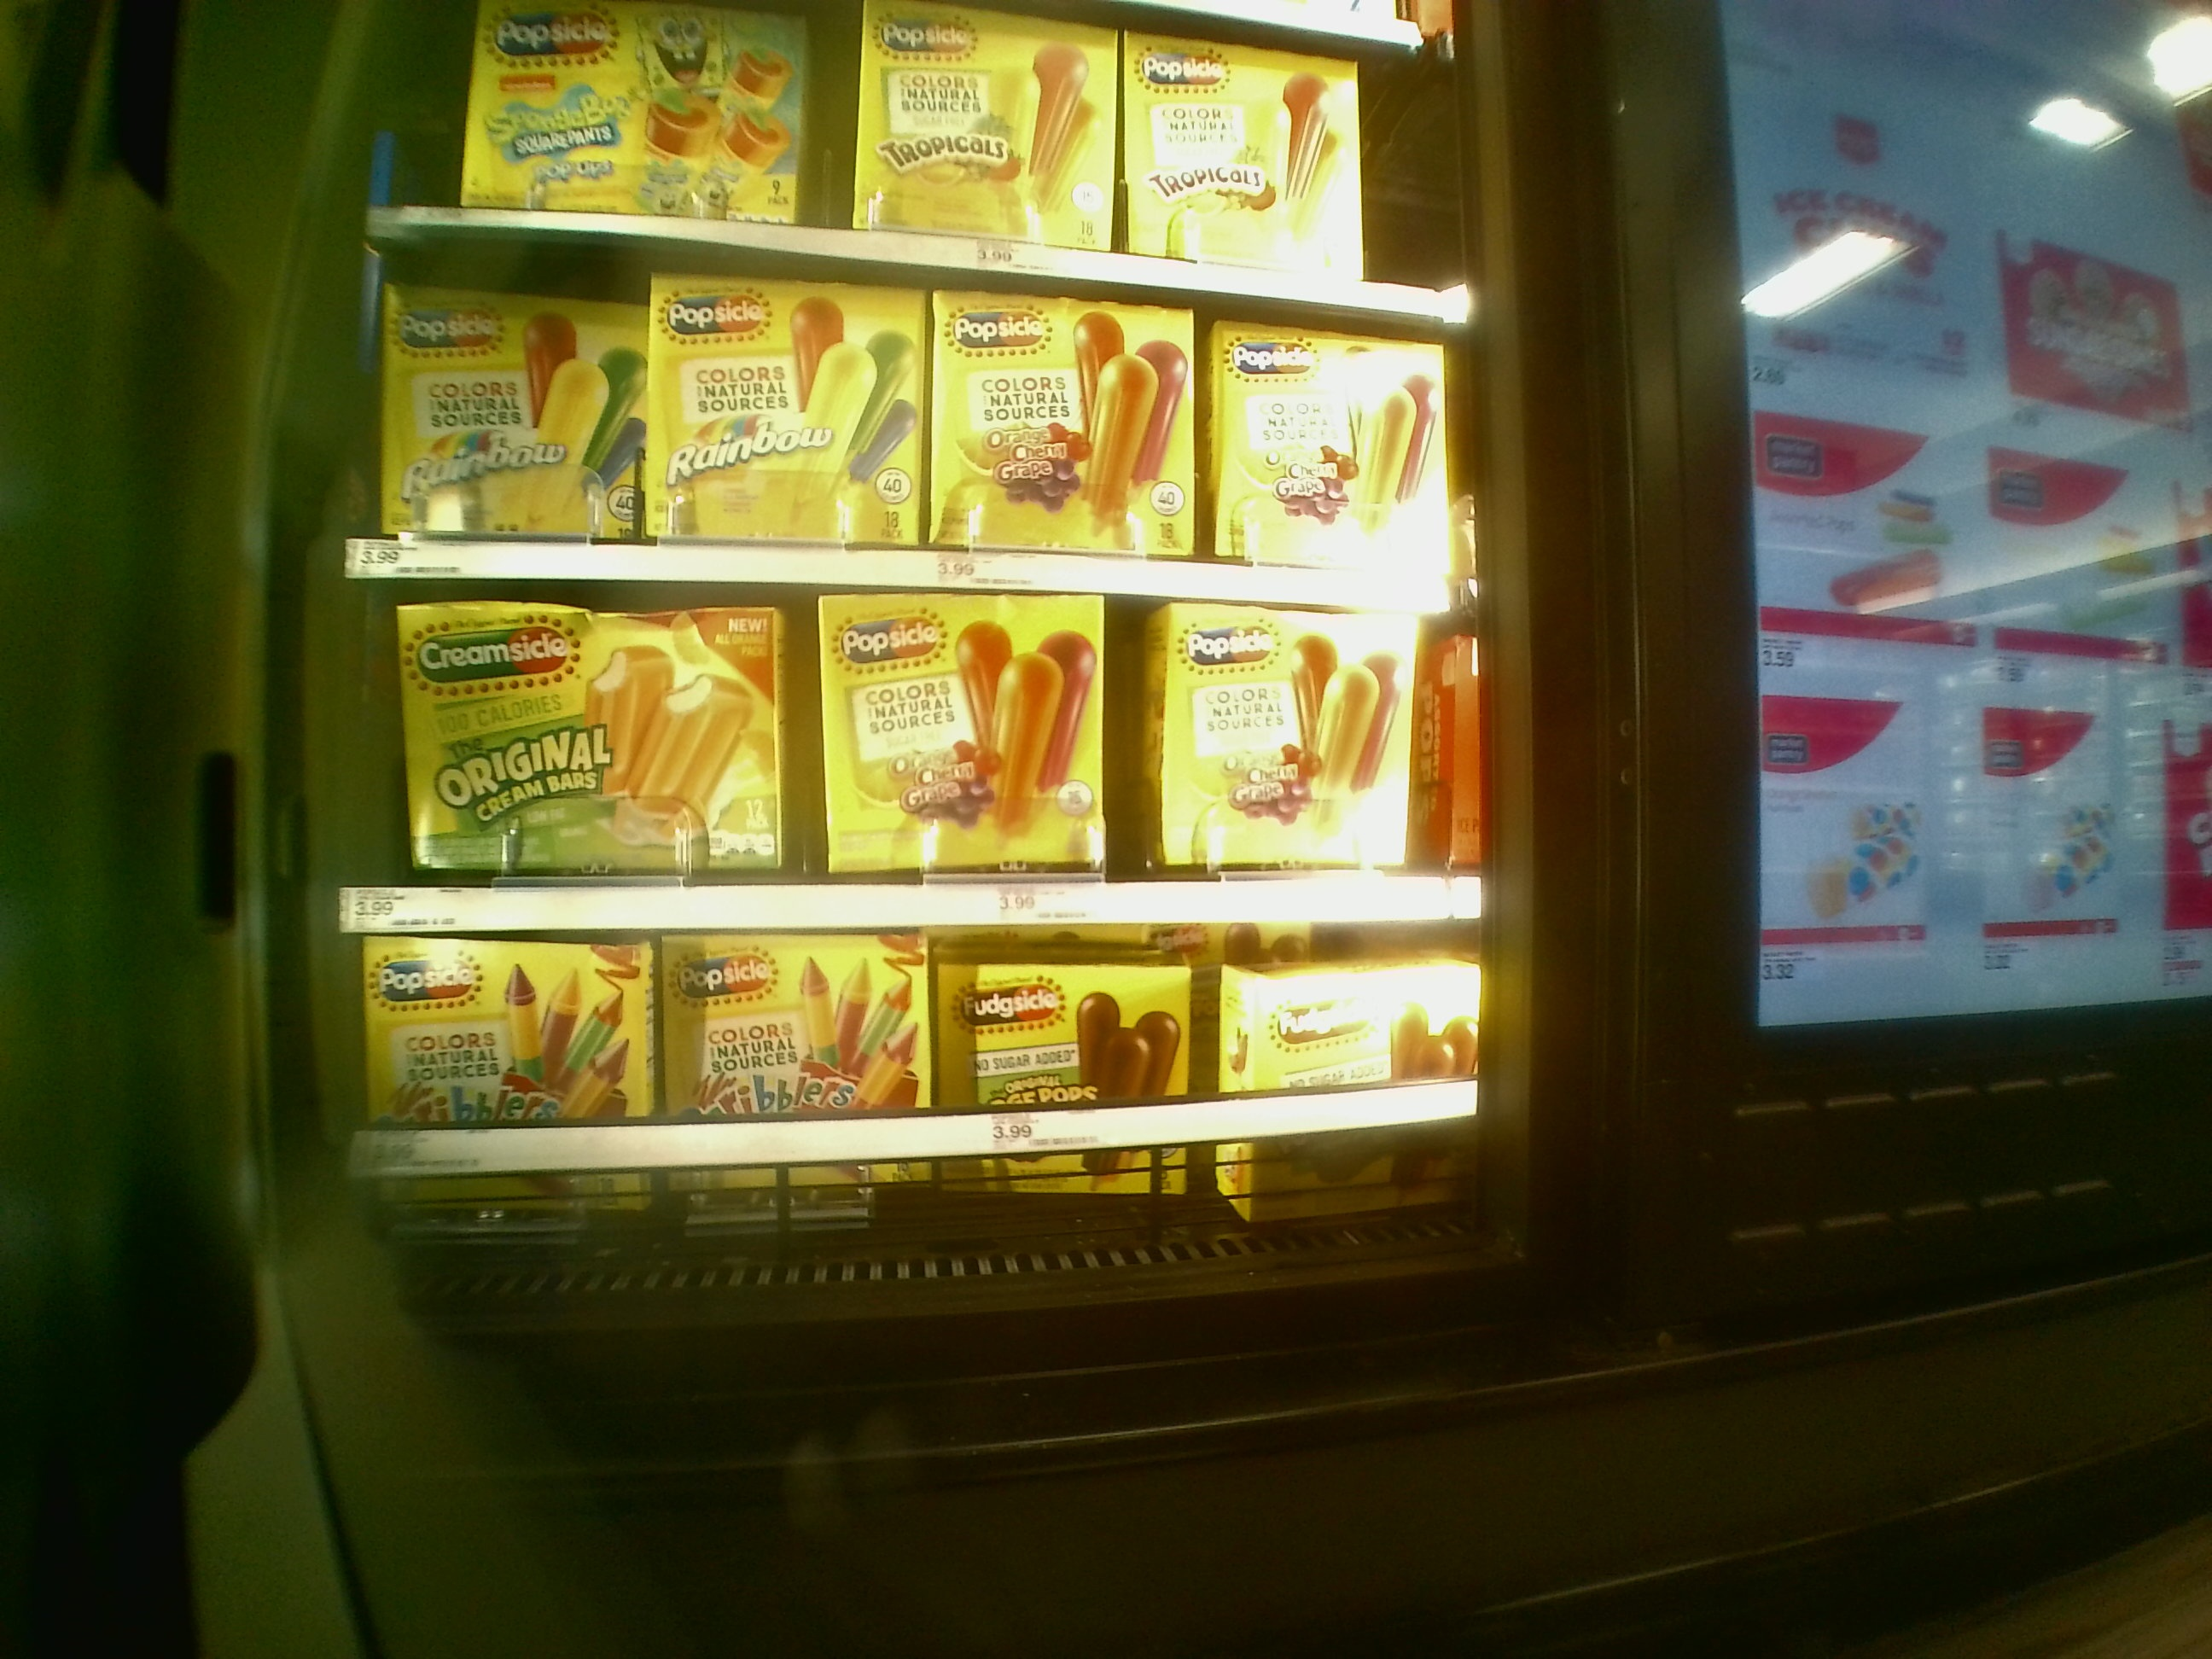shelf: (354, 929, 1529, 1274), (348, 237, 1479, 591), (348, 580, 1486, 910)
